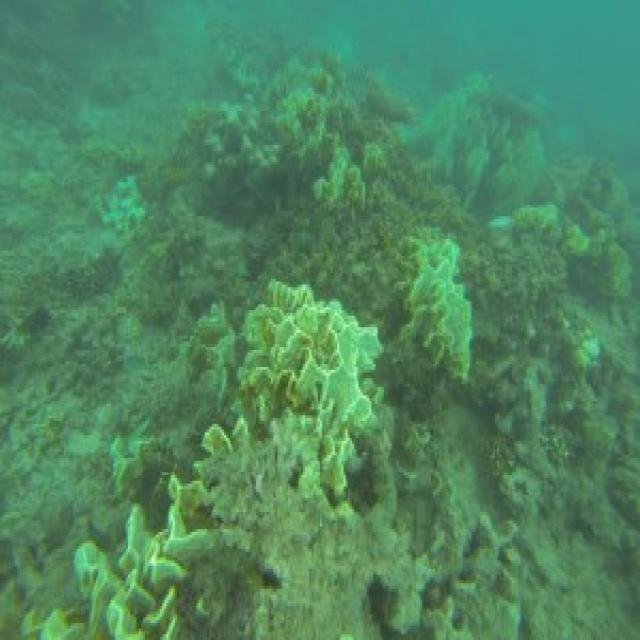Bleached: (240, 283, 376, 502), (42, 504, 206, 638), (404, 229, 472, 379)
